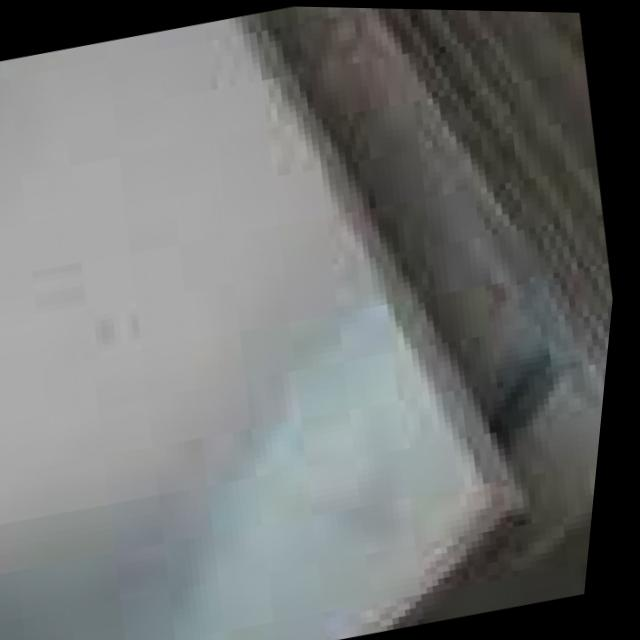metal-plates: (1, 6, 619, 640)
